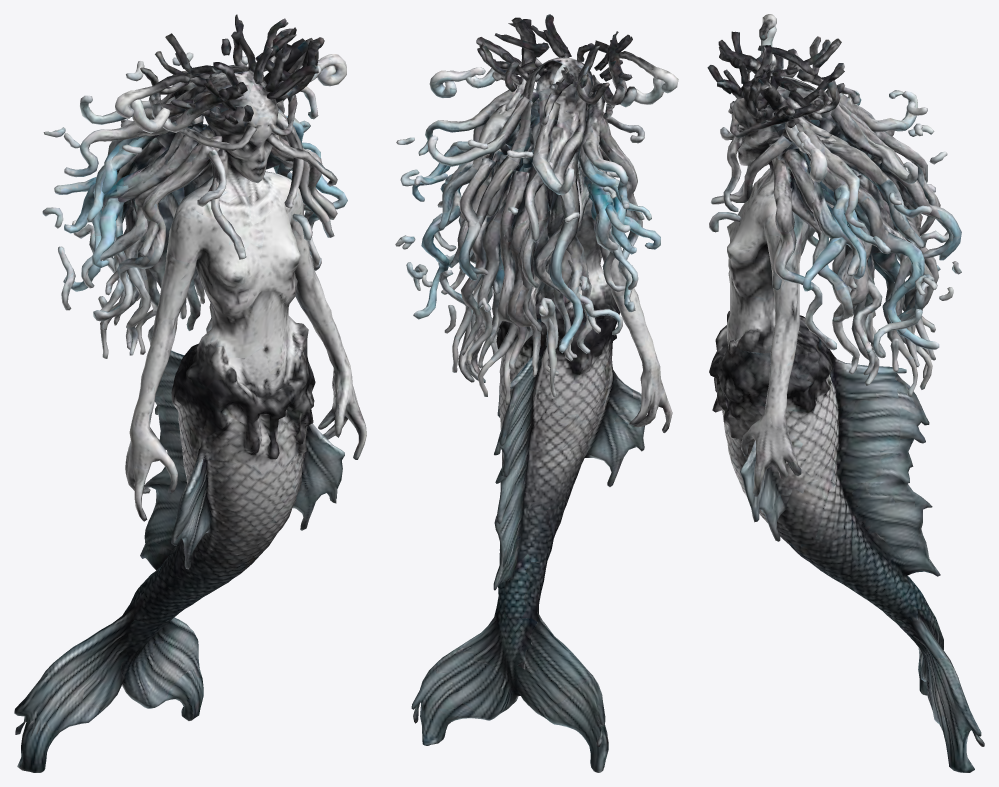
Rendered from Watt_Sirene.glb.
3 views of the same model, side by side, from view 1: azimuth 30°, elevation 25°; view 2: azimuth 150°, elevation 25°; view 3: azimuth 270°, elevation 25° (orthographic). The views are drawn at different scales.
Bounding box in the file's own units: 0.681 × 1.85 × 0.6693.
Materials: 1 (1 with a texture image).
